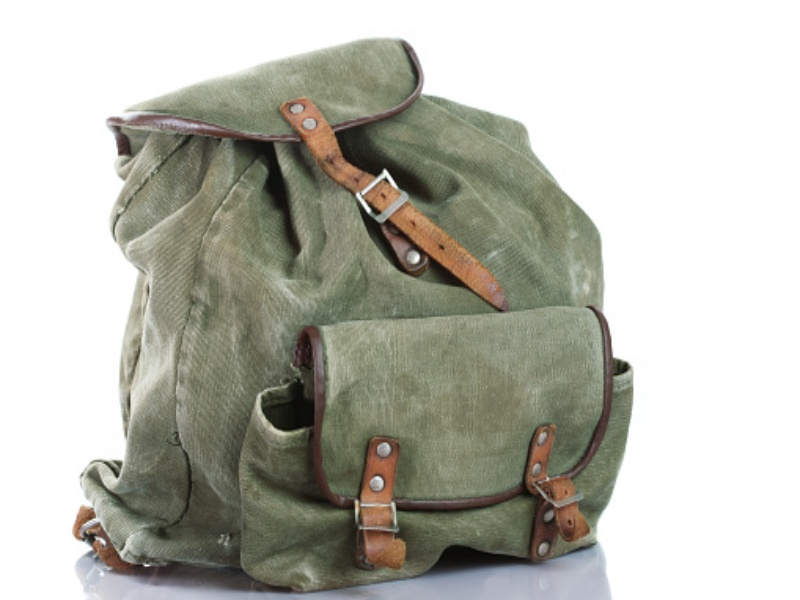Cloth_bag_Reuse: (66, 13, 646, 591)
